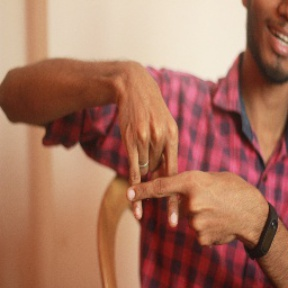H: (113, 124, 208, 233)
